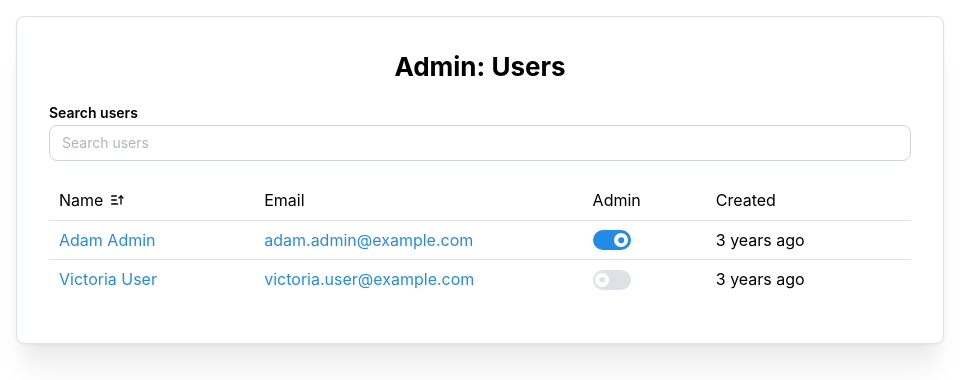
AdminUserList › filters users by name/email from the search input
Step 1. Type "victoria" into the field with placeholder "Search users" → x=480, y=143, box 49,125 -> 911,161
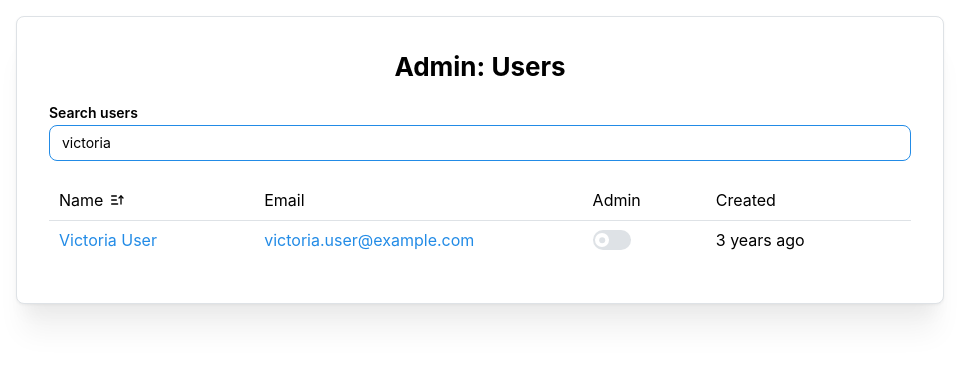
expect the link "Victoria User" is shown: met, box 59,230 -> 157,250
expect the link "Adam Admin" is gone: met
